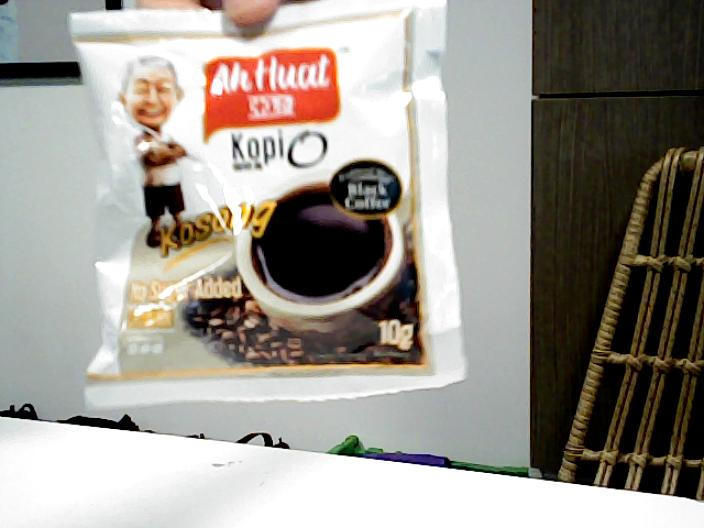Adult_Milk_0-99g_Halal_NonHealthy: (87, 1, 458, 406)
